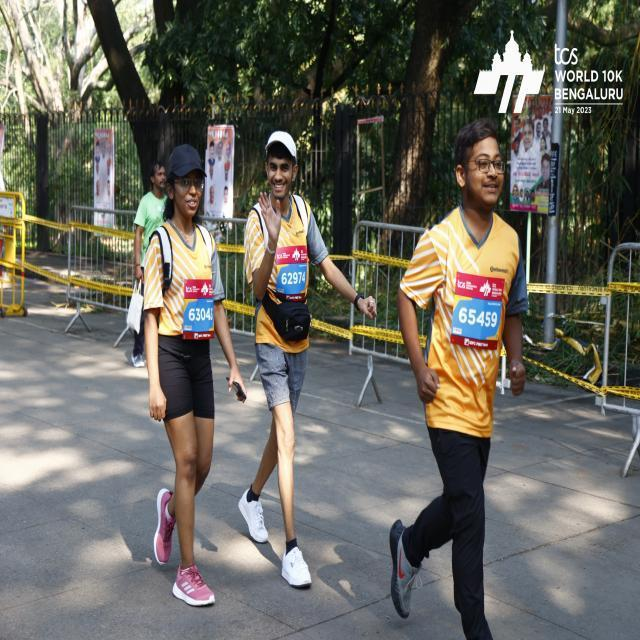dorsal: (455, 270, 502, 351), (184, 280, 214, 338), (276, 248, 306, 302)
